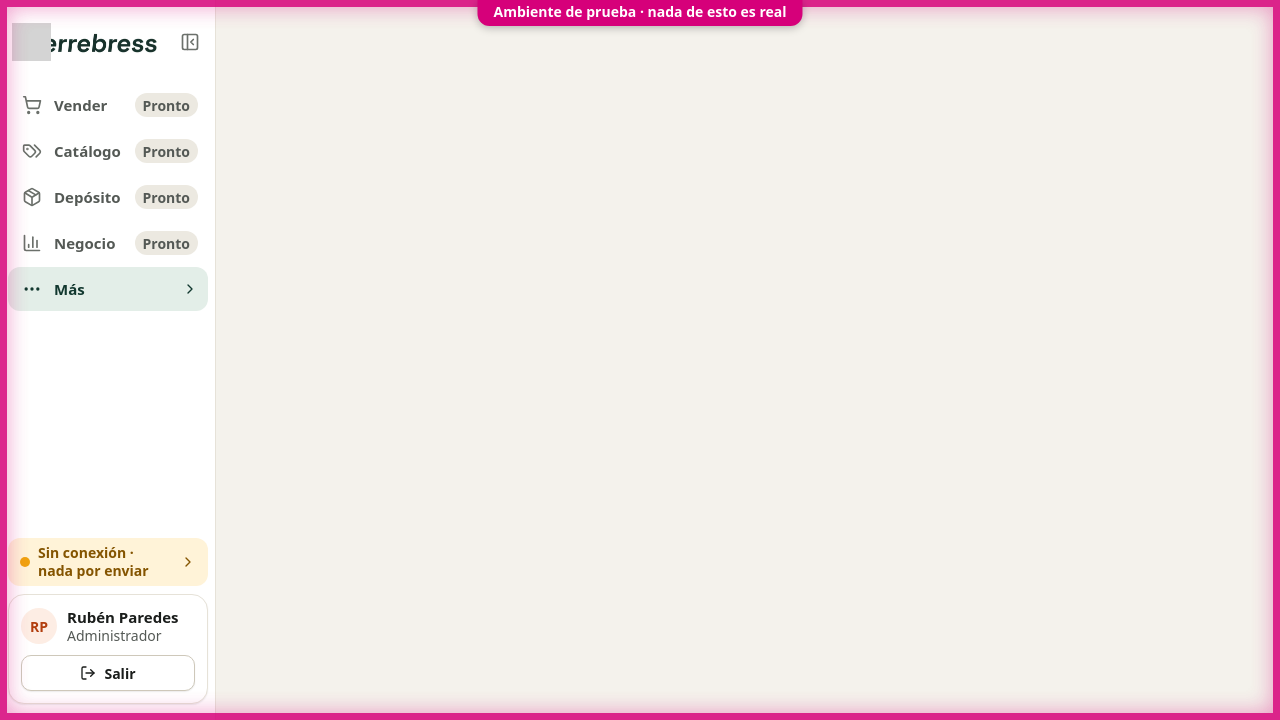
Test: el marco › app-E20, app-E21: la luz dice lo que pasa con la conexión, sin preguntar nada
The width and height of the screenshot is (1280, 720).
Expected: the text "Sin conexión · nada por enviar" is shown, top-left (38, 543), bottom-right (149, 580)
Click the button "Sin conexión · nada por enviar".
click(108, 562)  # box top-left (8, 538), bottom-right (208, 586)
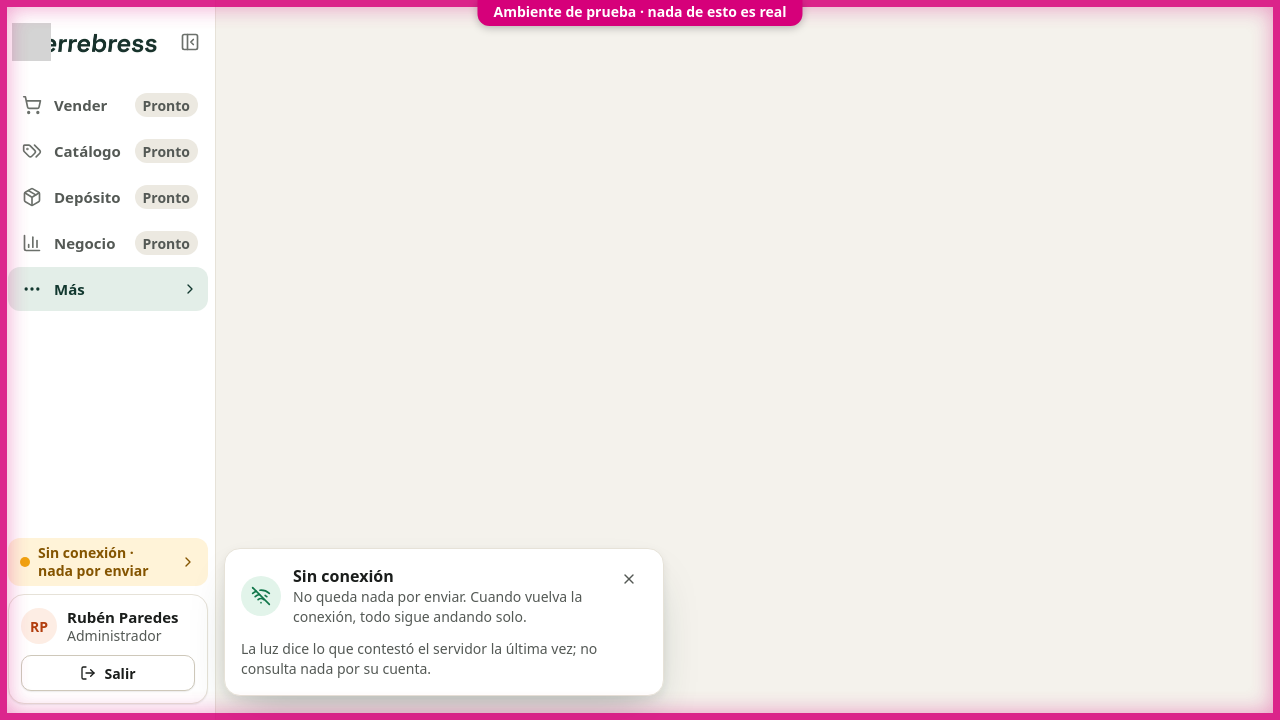
Expected: the text "Sin conexión" is shown, top-left (293, 565), bottom-right (394, 587)
